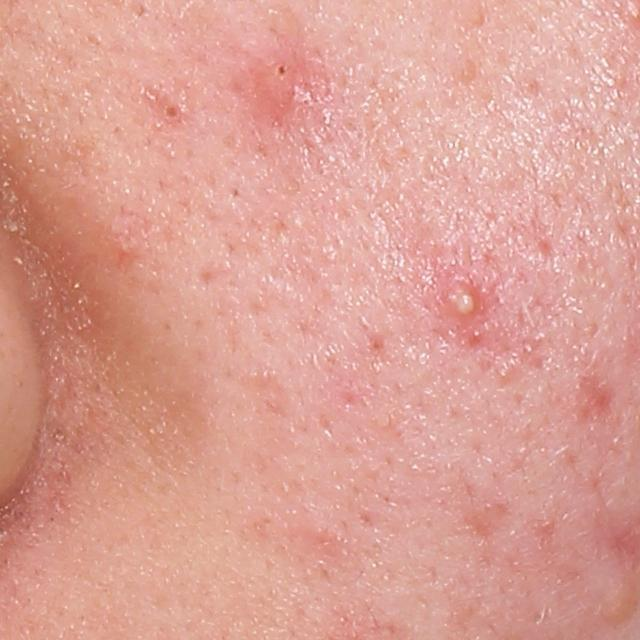comedo: (268, 54, 294, 84), (155, 100, 184, 125)
pustule: (444, 283, 478, 318)
